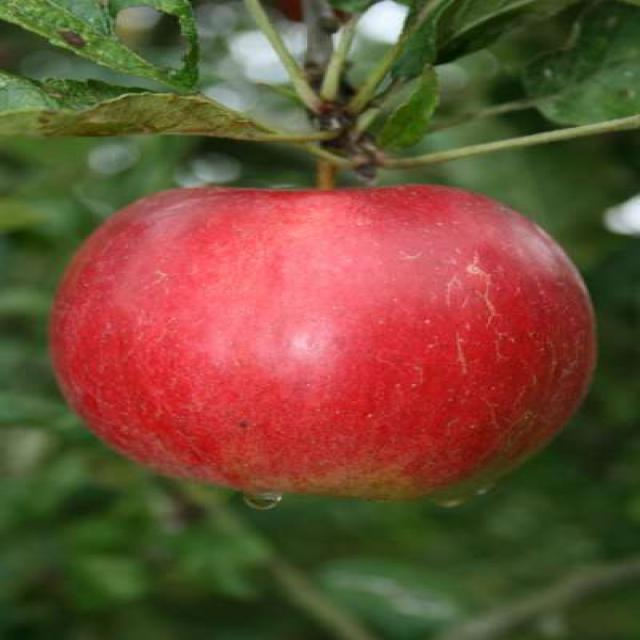Apple: (69, 178, 601, 512)
